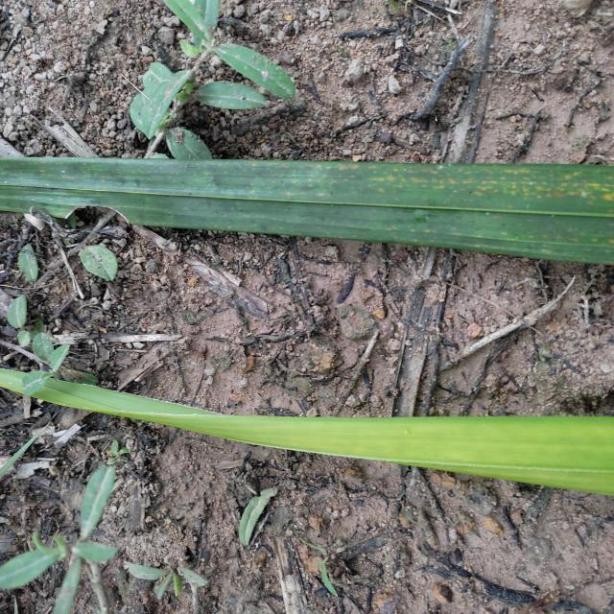nitrogen: (0, 358, 614, 493), (0, 146, 614, 268)
